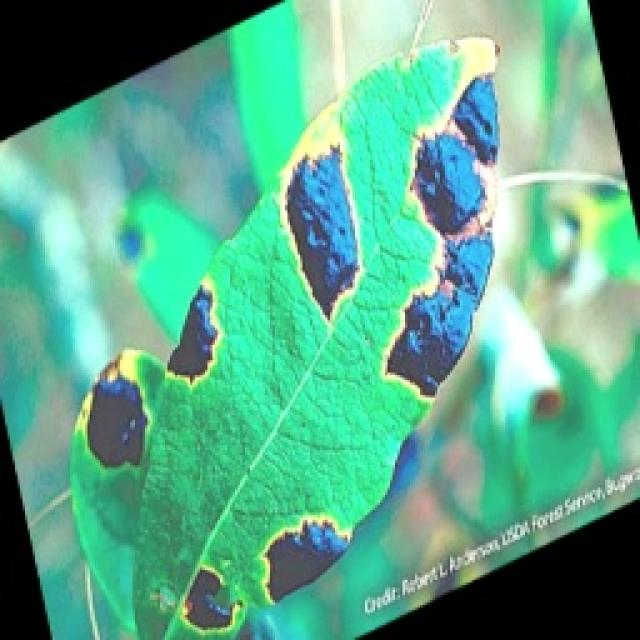Tar_Spot: (79, 56, 531, 610)
